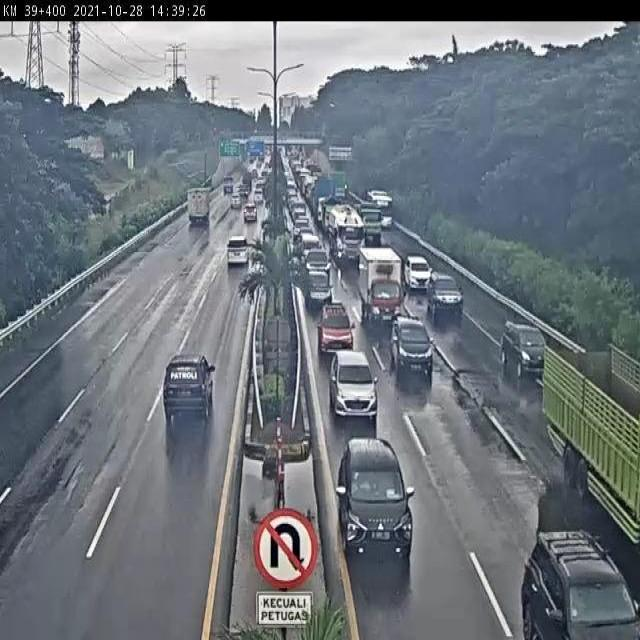car: (512, 485, 640, 640), (338, 439, 415, 565), (148, 337, 221, 444), (326, 345, 381, 427), (497, 315, 553, 389), (386, 311, 433, 379), (316, 301, 360, 359), (424, 266, 461, 318), (220, 235, 253, 277), (403, 252, 433, 292), (235, 203, 261, 235), (248, 188, 266, 212), (226, 195, 246, 213), (232, 562, 233, 570)
truck: (518, 316, 640, 543), (357, 246, 411, 326), (323, 206, 369, 270), (181, 180, 217, 236)
